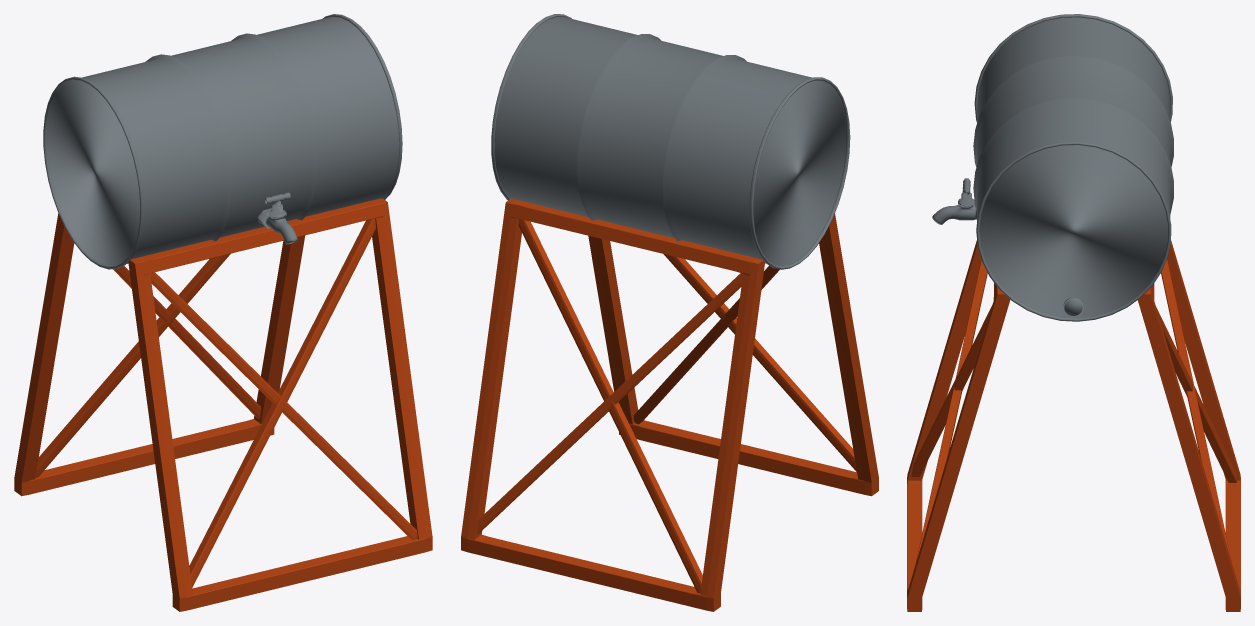
File: OilBarrel.fbx
3 renders of one model, left to right at view 1: azimuth 30°, elevation 25°; view 2: azimuth 150°, elevation 25°; view 3: azimuth 270°, elevation 25°, orthographic.
Visible parts, largest first — view 1: Cube.001; view 2: Cube.001; view 3: Cube.001.
Part boxes in pixels (box(x1,y1,x2,y2)): Cube.001: box(14, 14, 432, 611); Cube.001: box(461, 14, 878, 611); Cube.001: box(907, 14, 1240, 611).
Size of the model in its own units: 630 by 1063 by 680.
